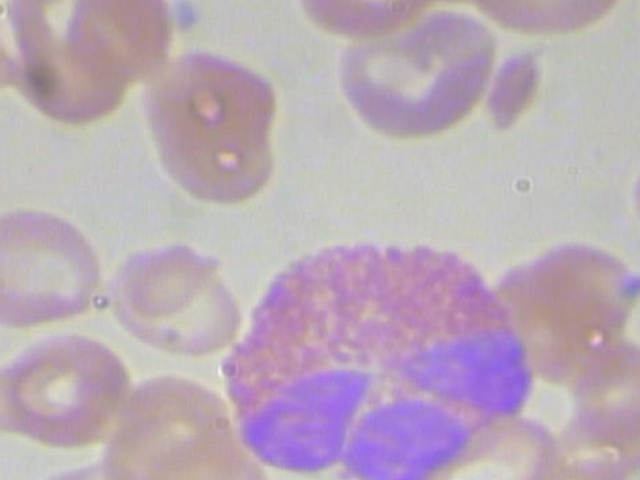Platelets: (0, 474, 24, 480), (626, 471, 640, 480)
RBC: (324, 4, 505, 148), (145, 48, 289, 211), (102, 229, 255, 354), (0, 205, 109, 331), (633, 150, 640, 246)
WBC: (215, 233, 548, 480)
